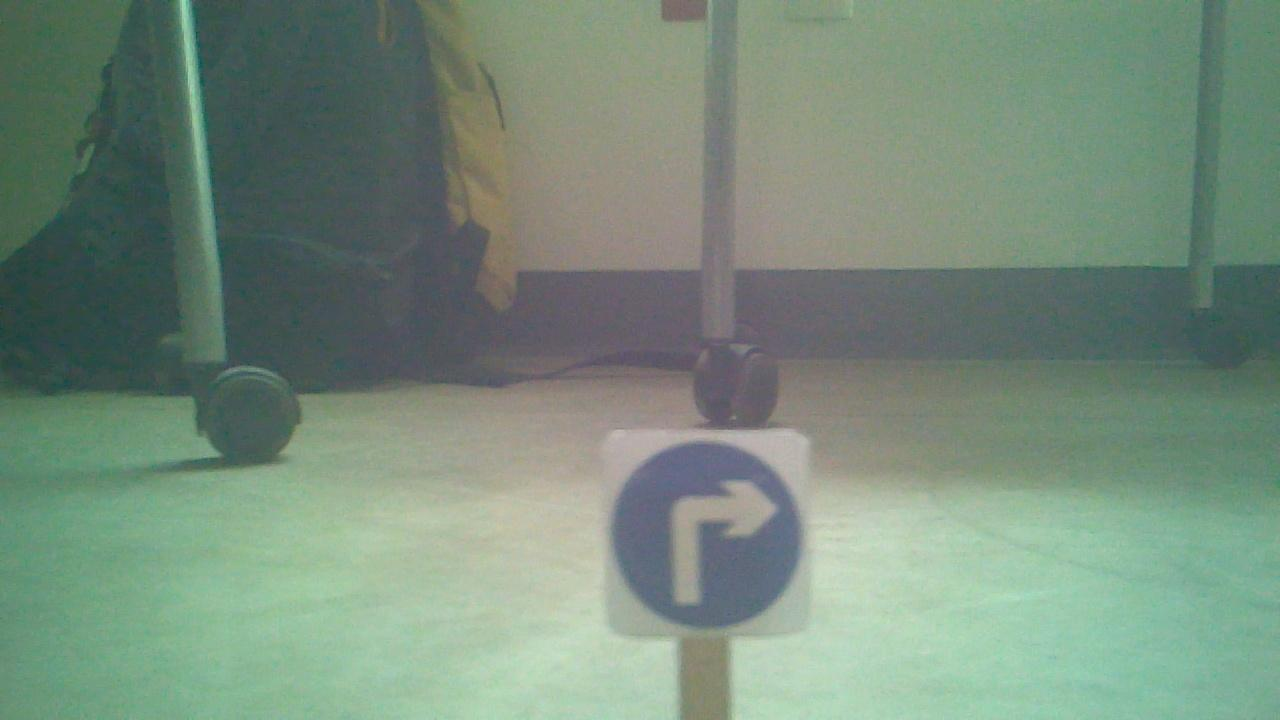turn: (605, 436, 806, 627)
